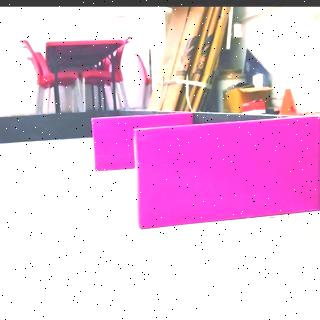xparking: (137, 133, 320, 225), (92, 118, 134, 166)
